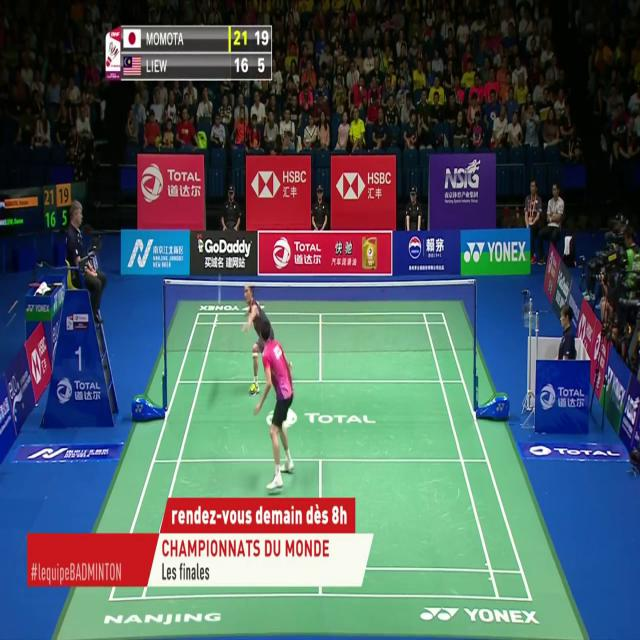Shuttlecock: (216, 286, 223, 297)
